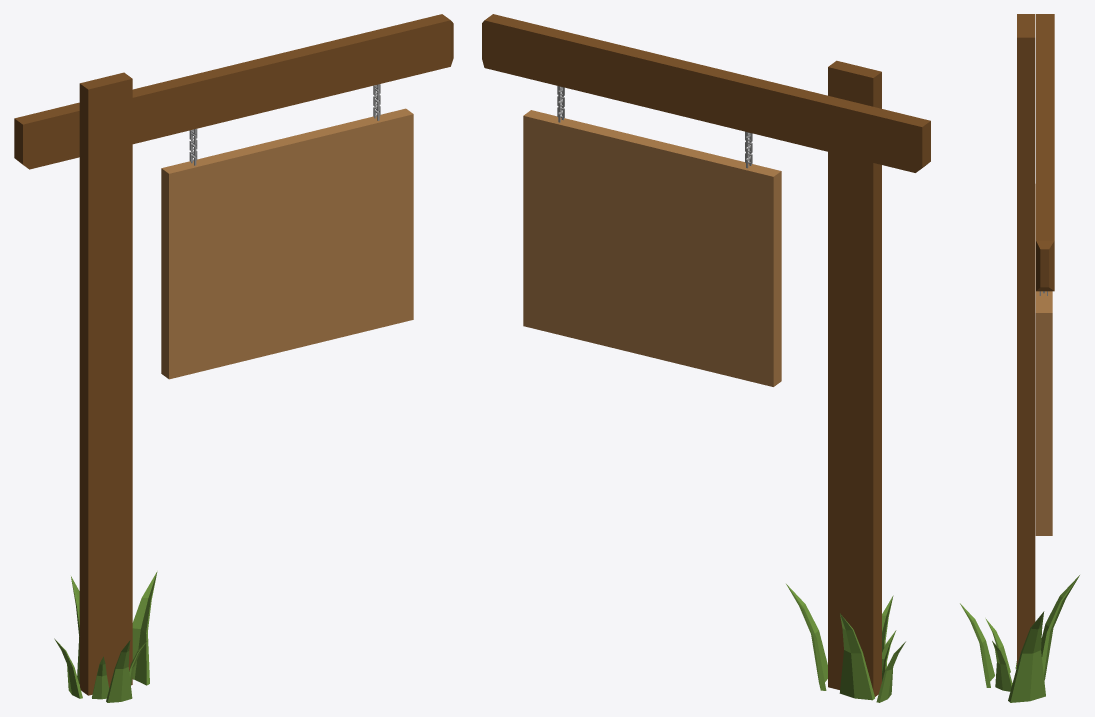
The model's file is Wooden Sign-jNdZygn3uR.glb.
The picture shows the model from 3 angles, left to right: view 1: azimuth 30°, elevation 25°; view 2: azimuth 150°, elevation 25°; view 3: azimuth 270°, elevation 25°; orthographic projection. The views are drawn at different scales.
Parts seen in each view (by area): view 1: Wooden Sign-jNdZygn3uR; view 2: Wooden Sign-jNdZygn3uR; view 3: Wooden Sign-jNdZygn3uR.
Boxes of the visible parts, x1,y1,x2,y2 form: Wooden Sign-jNdZygn3uR: (14,14,453,702); Wooden Sign-jNdZygn3uR: (482,14,930,702); Wooden Sign-jNdZygn3uR: (960,14,1079,702).
Bounding box in the file's own units: 1.55 × 2.08 × 0.3487.
